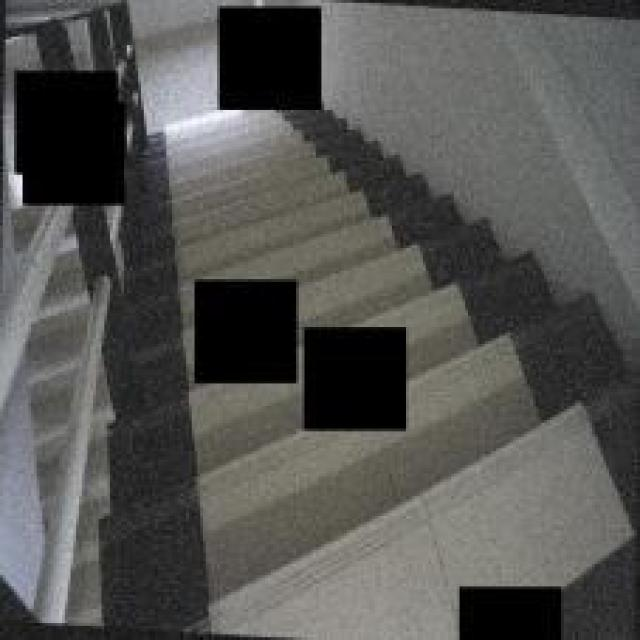downstair: (176, 150, 373, 266)
